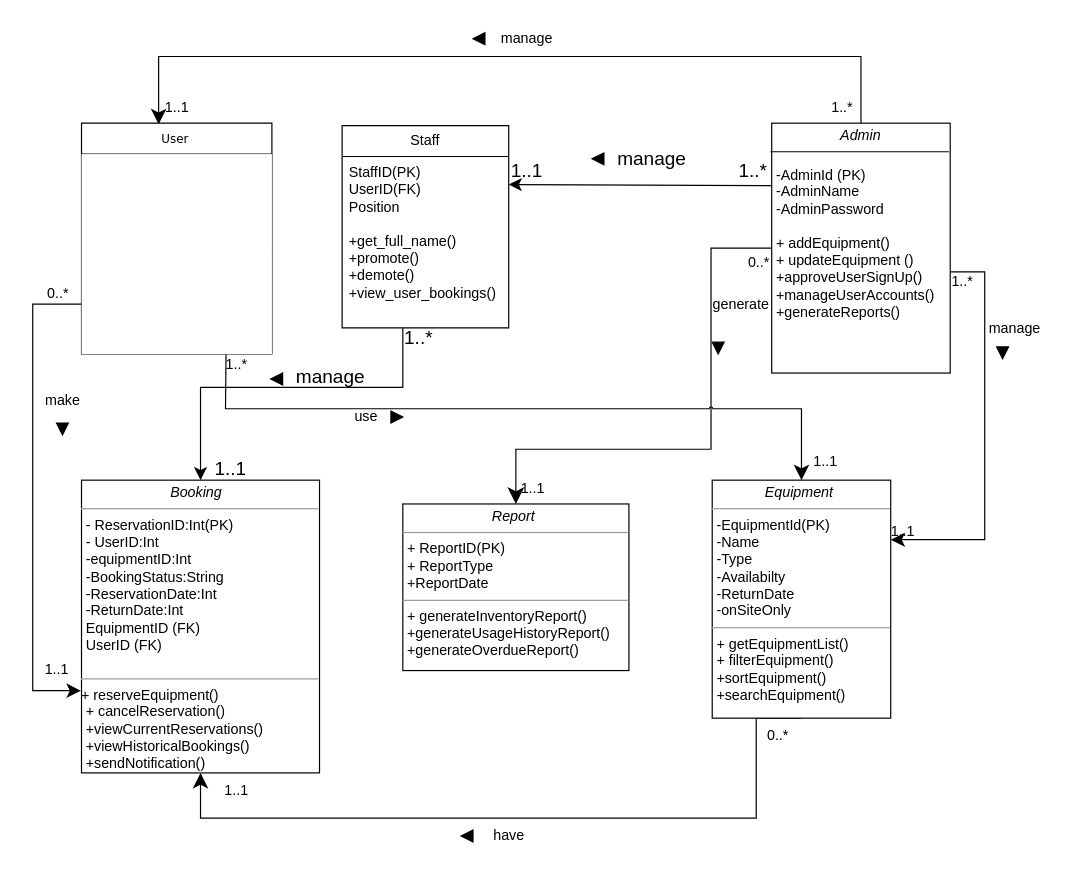
Image size: 1077x873. Some labels were removed from this diagram. The shapes that lost their labels are listed below. From the top down, each one's centre as x and y in pixels, then its label:
the point at 176,203: -UserId(PK) -Username -password -Role -ApprovalStatus
the point at 176,303: +signup() +updateAccountInfo() +logIn()
